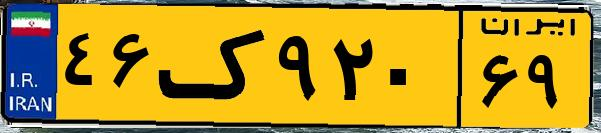0: (385, 28, 445, 110)
2: (330, 28, 385, 110)
4: (57, 26, 110, 100)
6: (475, 38, 525, 113), (110, 28, 158, 98)
9: (270, 28, 330, 110), (525, 38, 570, 115)
ک: (158, 12, 270, 120)
